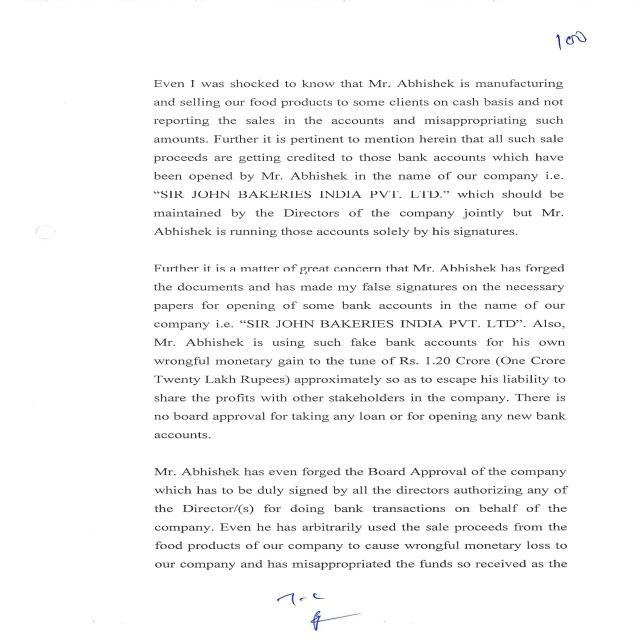page-number: (0, 0, 640, 66)
